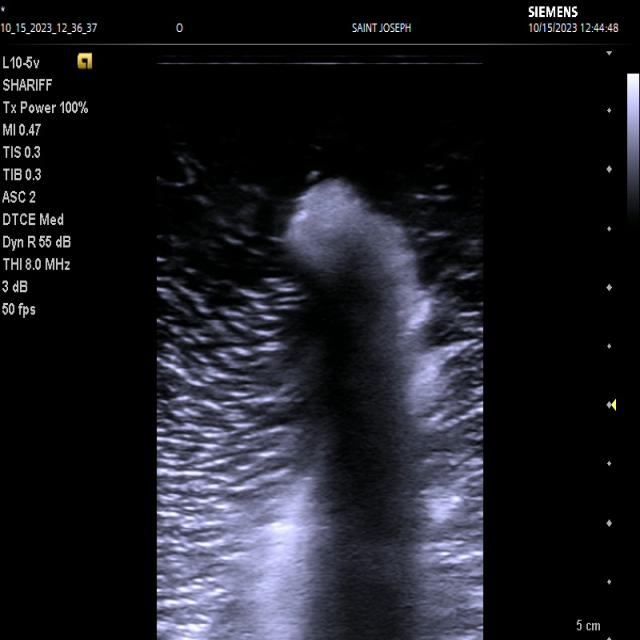tissue: (201, 165, 451, 640)
